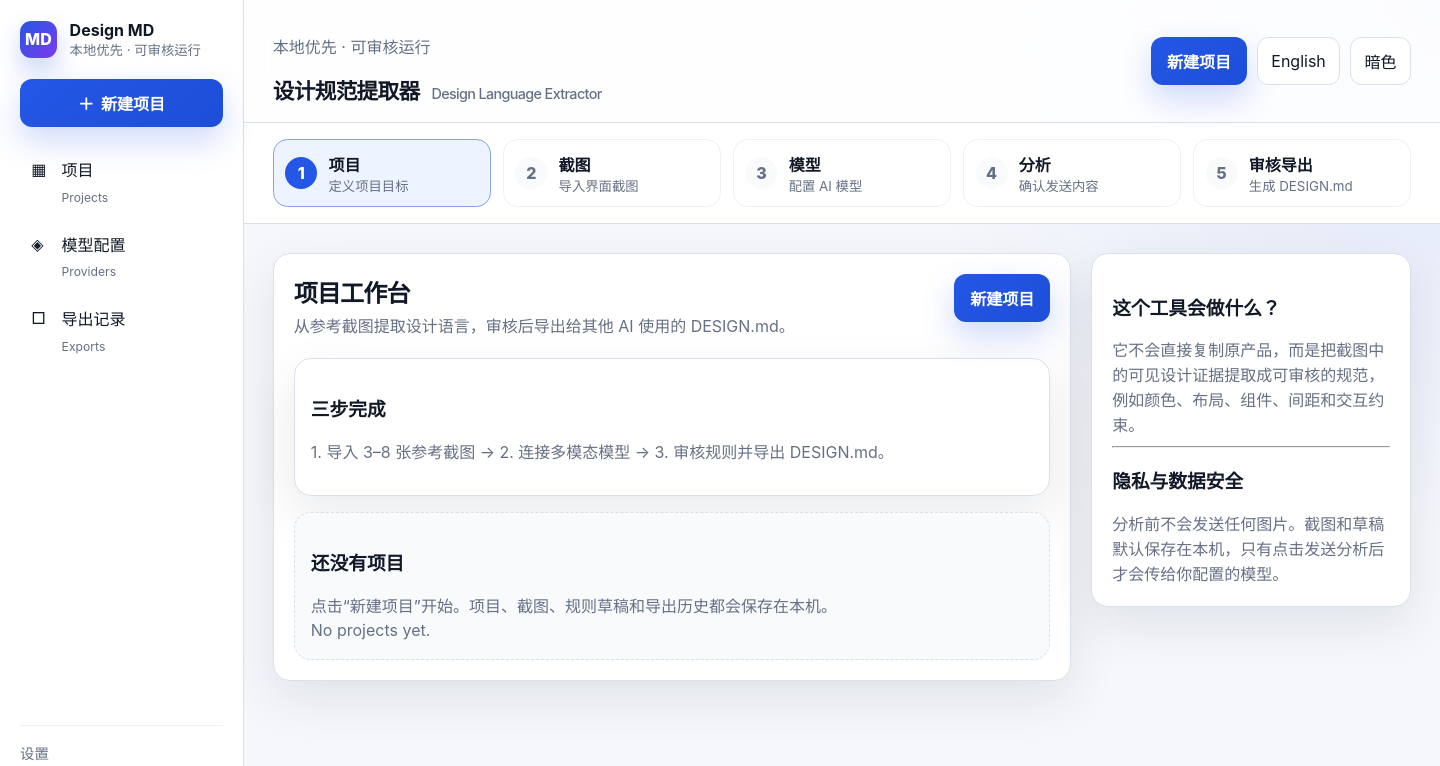
it: ProjectListPage › creates a project and opens screenshot management
Click the button with aria-label "New project". click: click(1002, 298)
box: [954, 274, 1050, 322]
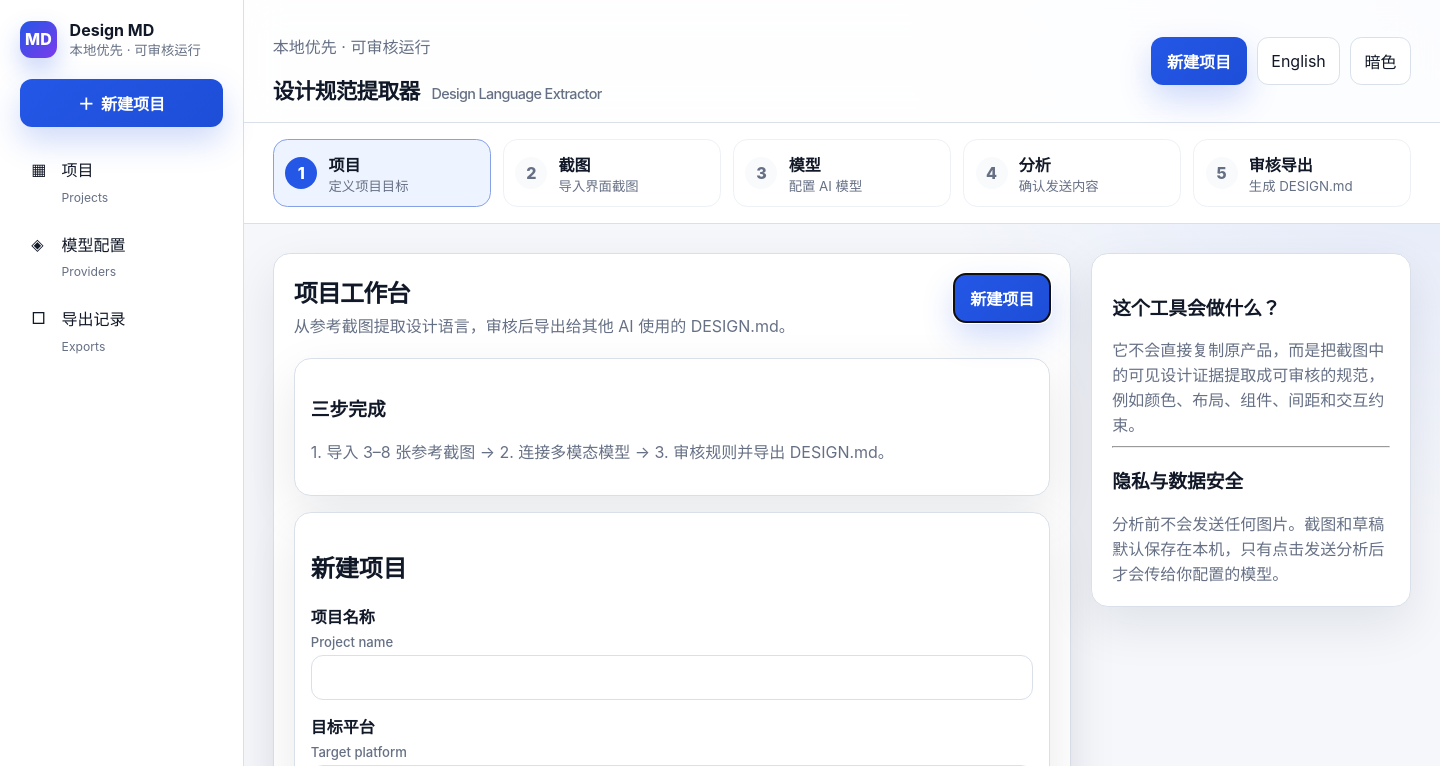
Type "Finance app" into the field labelled "Project name". click: (672, 677)
box: [311, 655, 1033, 700]
(page scrolled)
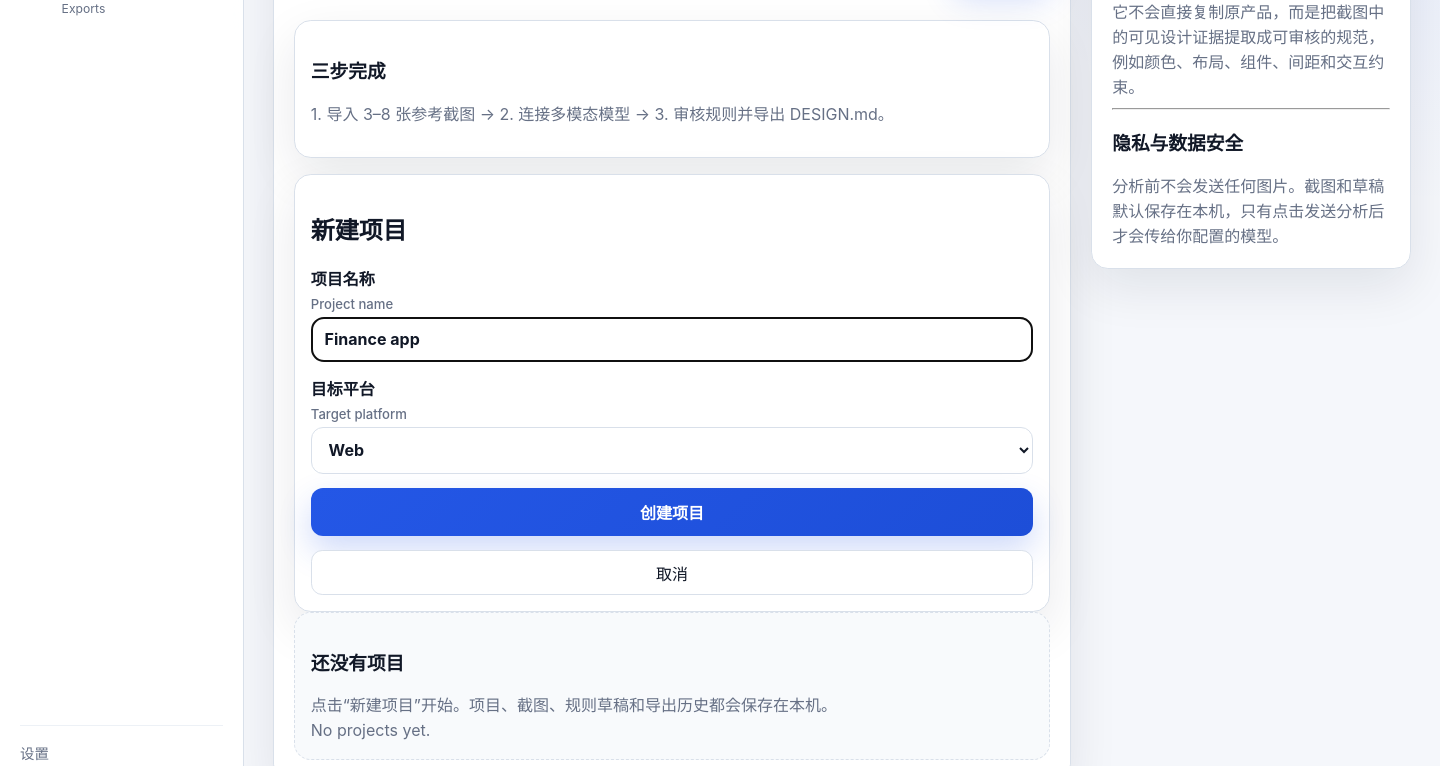
Select "Mobile" in the dropdown labelled "Target platform". click: (672, 450)
box: [311, 427, 1033, 474]
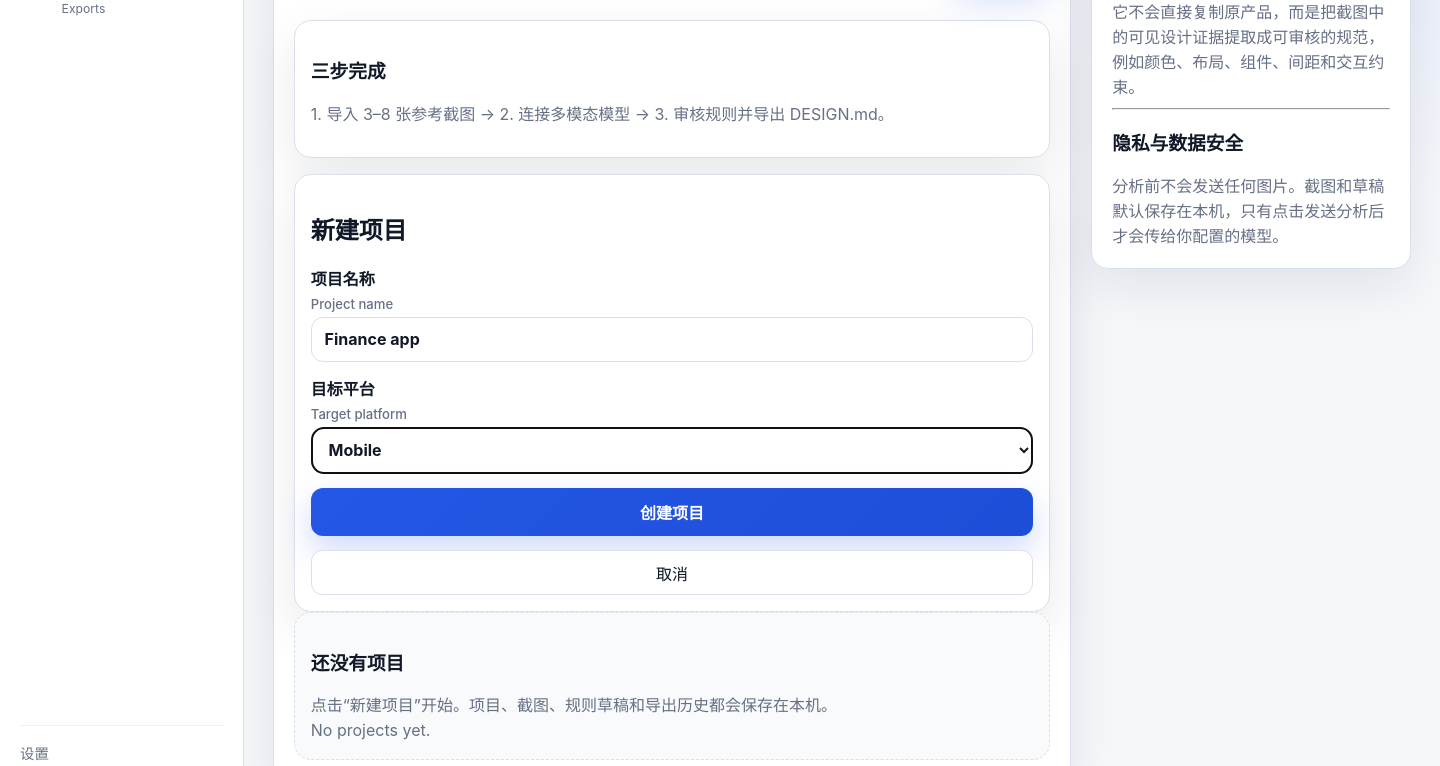
Click the button with aria-label "Create project". click: click(672, 512)
box: [311, 488, 1033, 536]
(page scrolled)
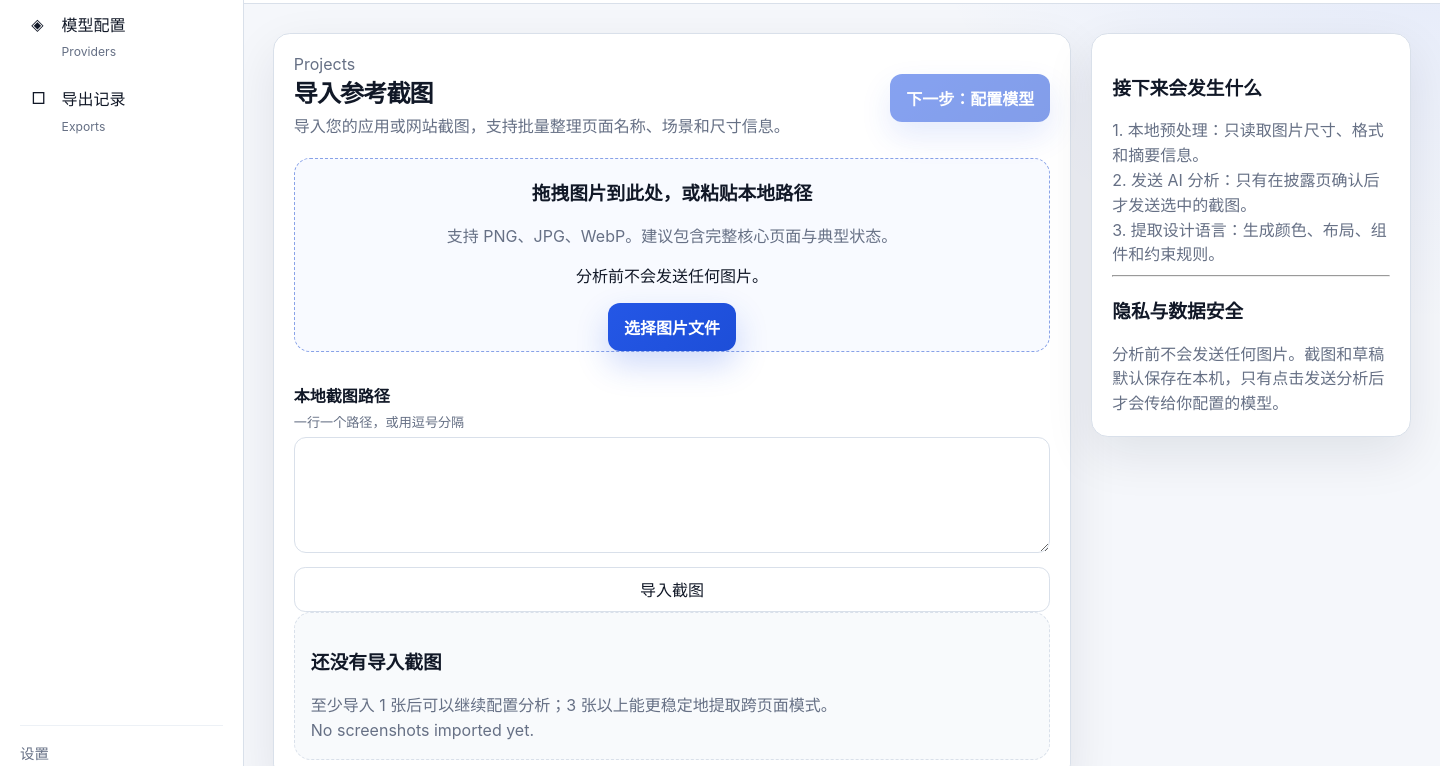
Result: the heading named "Reference screenshots" is shown at [294, 79, 433, 108]
